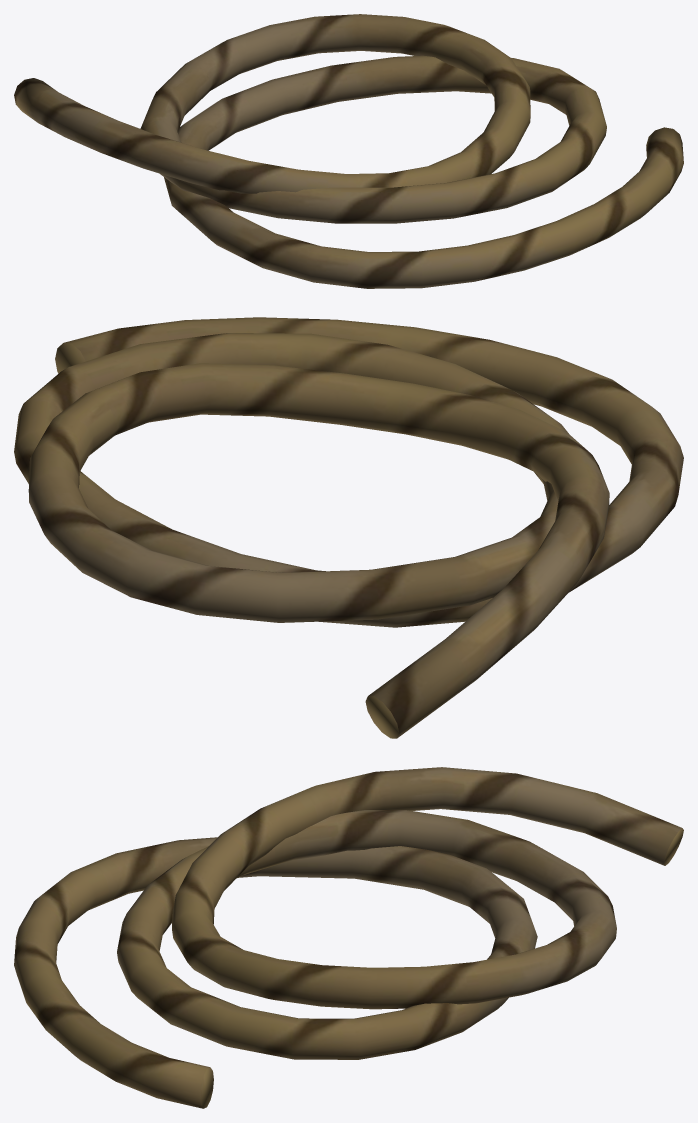
File: Rope_2.gltf
3 renders of one model, top to bottom at view 1: azimuth 30°, elevation 25°; view 2: azimuth 150°, elevation 25°; view 3: azimuth 270°, elevation 25°, orthographic. The views are drawn at different scales.
Parts seen in each view (by area): view 1: Rope_2; view 2: Rope_2; view 3: Rope_2.
Boxes of the visible parts, left/top/right/bottom form: Rope_2: left=14, top=14, right=683, bottom=288; Rope_2: left=14, top=317, right=683, bottom=738; Rope_2: left=14, top=767, right=683, bottom=1108.
Bounding box in the file's own units: 0.8078 × 0.1236 × 0.845.
1 material, 1 textured.
